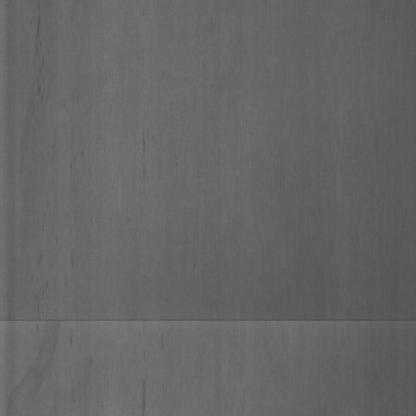welding_line: (1, 306, 416, 340)
